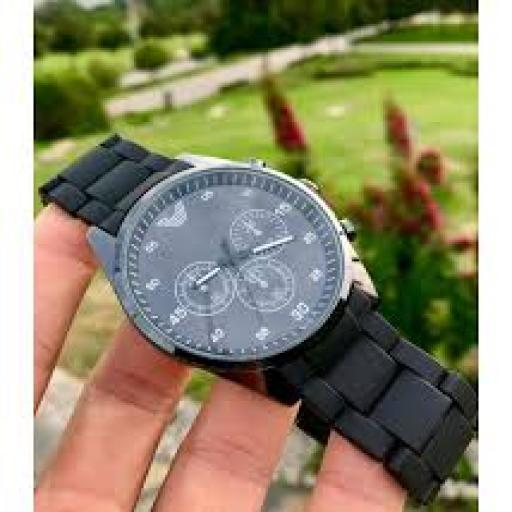KolSaati: (36, 78, 474, 504)
